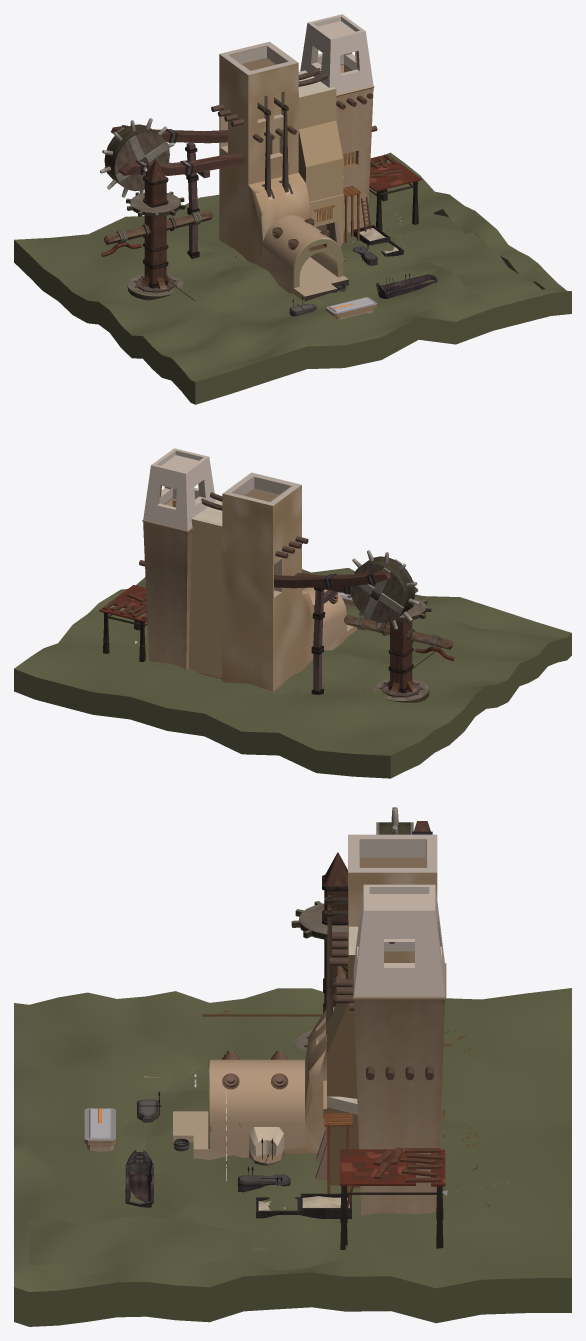
Rendered from foundry.gltf.
3 views of the same model, one above another, from view 1: azimuth 30°, elevation 25°; view 2: azimuth 150°, elevation 25°; view 3: azimuth 270°, elevation 25° (orthographic). The views are drawn at different scales.
Visible parts, largest first — view 1: Bathtub_02 - Default_0; view 2: Bathtub_02 - Default_0; view 3: Bathtub_02 - Default_0.
Part boxes in pixels (x1,y1,x2,y2): Bathtub_02 - Default_0: (14,14,571,404); Bathtub_02 - Default_0: (14,448,571,778); Bathtub_02 - Default_0: (14,807,571,1326).
Size of the model in its own units: 16.95 by 9.7 by 14.14.
10 materials, 4 textured.
